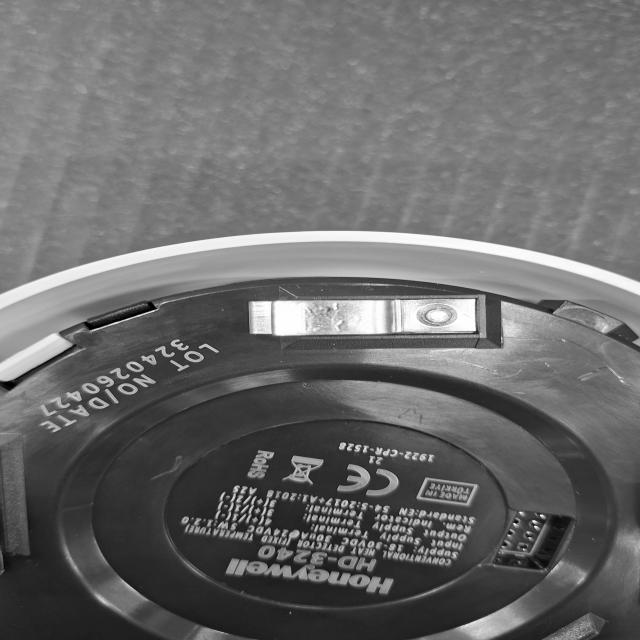yayli: (229, 285, 510, 346)
